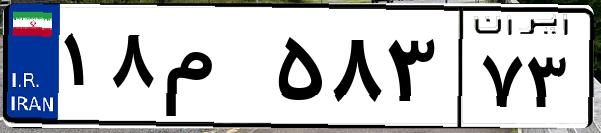1: (57, 26, 110, 100)
3: (385, 28, 445, 110), (525, 38, 570, 115)
5: (270, 28, 330, 110)
7: (475, 38, 525, 113)
8: (330, 28, 385, 110), (110, 28, 158, 98)
م: (158, 20, 270, 120)
